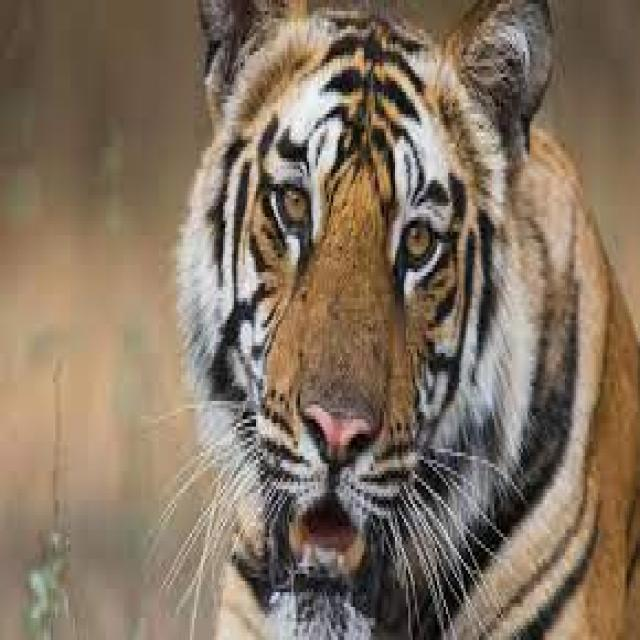Carnivorous: (174, 0, 640, 640)
